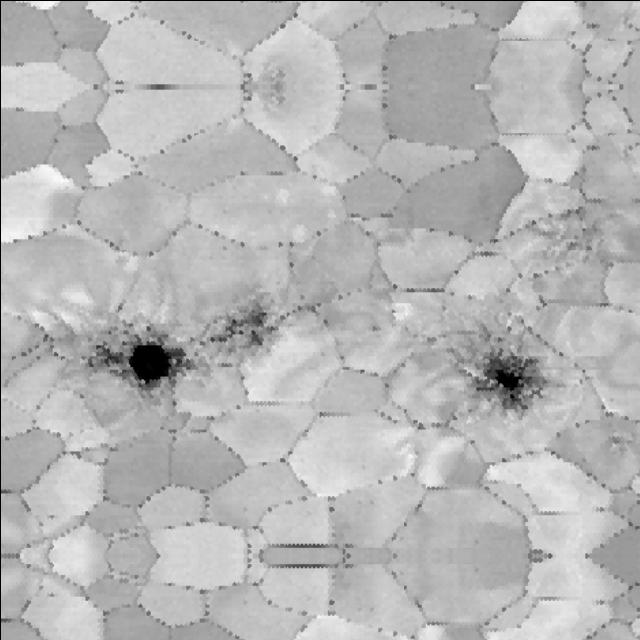good_void: (87, 319, 200, 396), (460, 340, 560, 408), (529, 210, 604, 279), (213, 296, 269, 347), (604, 432, 624, 454), (361, 320, 384, 336)
